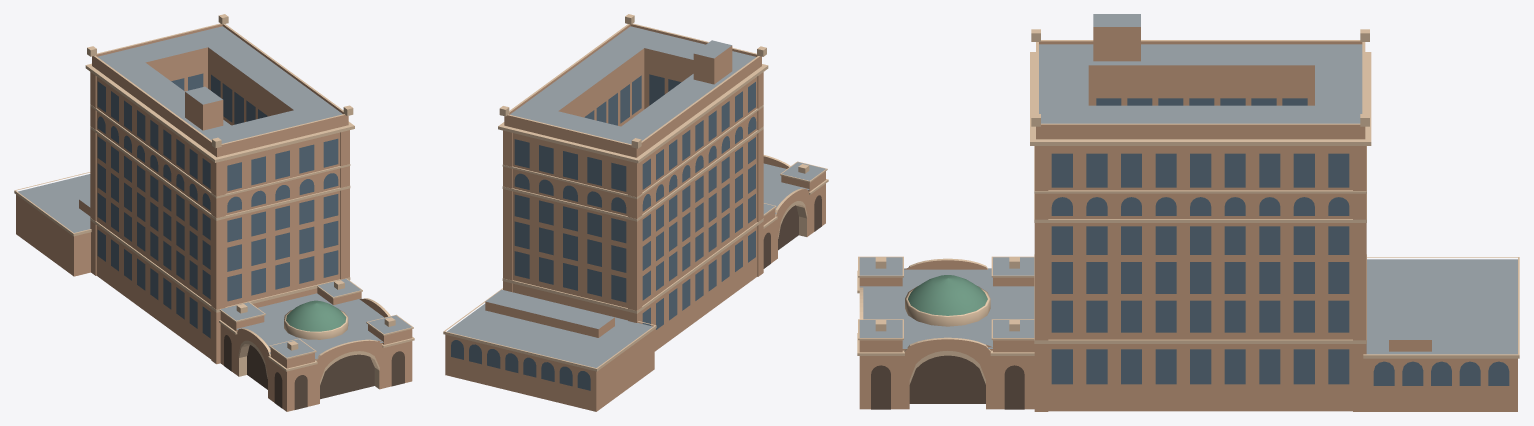
The model's file is pit-union-station.glb.
The picture shows the model from 3 angles, left to right: view 1: azimuth 30°, elevation 25°; view 2: azimuth 150°, elevation 25°; view 3: azimuth 270°, elevation 25°; orthographic projection. The views are drawn at different scales.
Visible parts, largest first — view 1: Pittsburgh Union Station; view 2: Pittsburgh Union Station; view 3: Pittsburgh Union Station.
Part boxes in pixels (x1,y1,x2,y2): Pittsburgh Union Station: [14, 14, 414, 411]; Pittsburgh Union Station: [443, 14, 828, 411]; Pittsburgh Union Station: [857, 14, 1519, 411].
Bounding box in the file's own units: 49.4 × 73.5 × 139.
